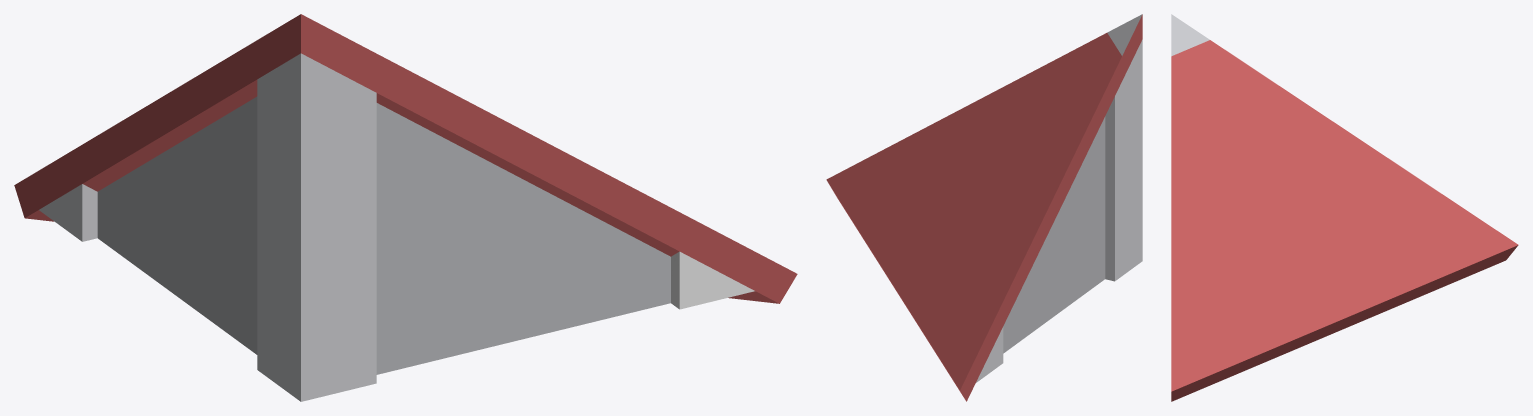
File: Roof_Corner_Red_01.obj
The picture shows the model from 3 angles, left to right: view 1: azimuth 30°, elevation 25°; view 2: azimuth 150°, elevation 25°; view 3: azimuth 270°, elevation 25°; orthographic projection. The views are drawn at different scales.
Visible parts, largest first — view 1: Mesh1_Roof_Corner_Red_Model; view 2: Mesh1_Roof_Corner_Red_Model; view 3: Mesh1_Roof_Corner_Red_Model.
Part boxes in pixels (left/top/right/bottom): Mesh1_Roof_Corner_Red_Model: left=14, top=14, right=797, bottom=401; Mesh1_Roof_Corner_Red_Model: left=826, top=14, right=1142, bottom=401; Mesh1_Roof_Corner_Red_Model: left=1171, top=14, right=1518, bottom=401.
Bounding box in the file's own units: 3.28 × 2.57 × 3.28.
